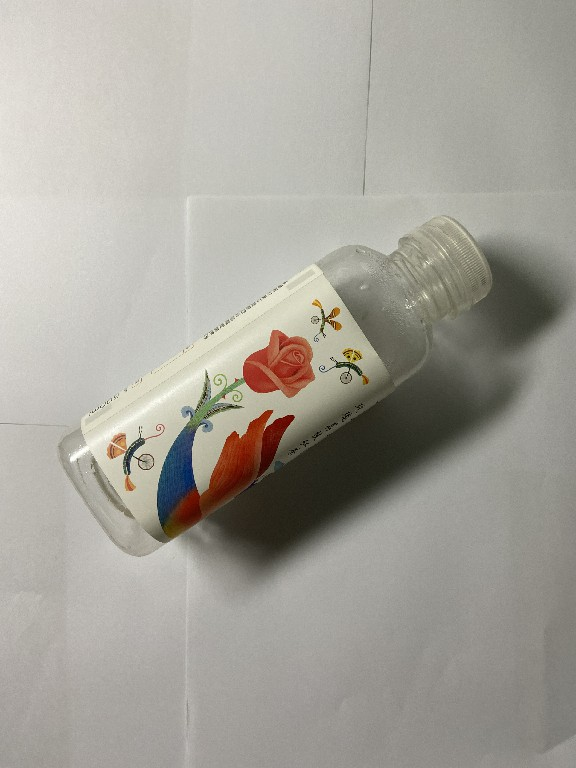bottle: (54, 209, 497, 565)
